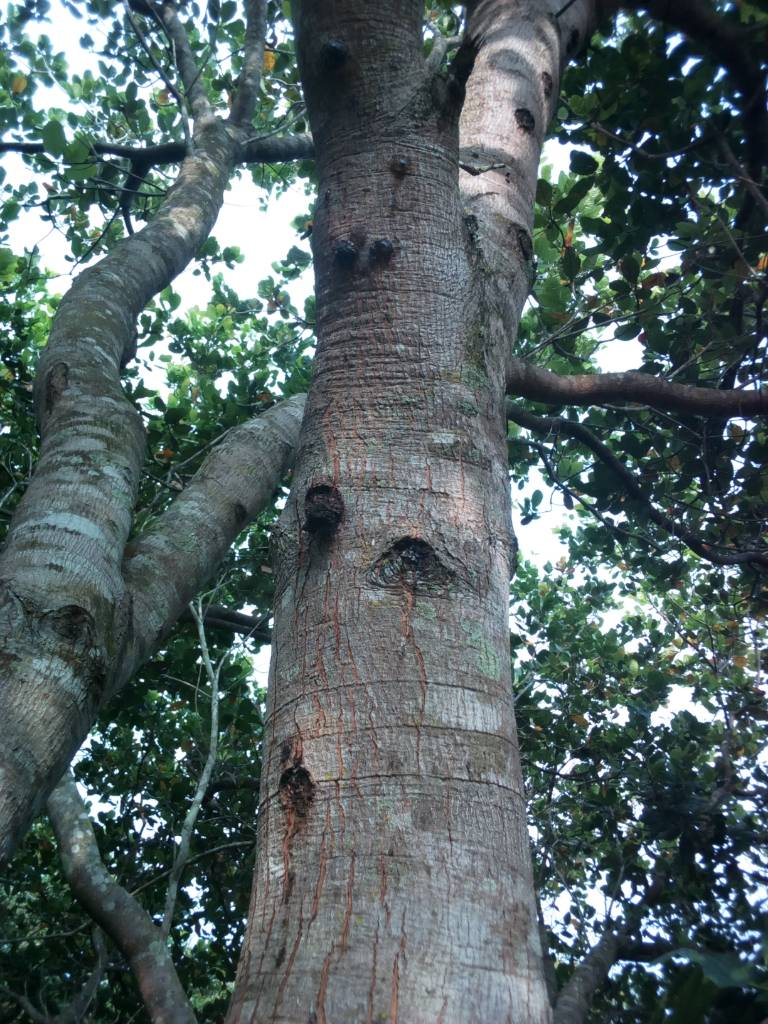ploceadorus ferrugineus: (343, 488, 487, 655)
